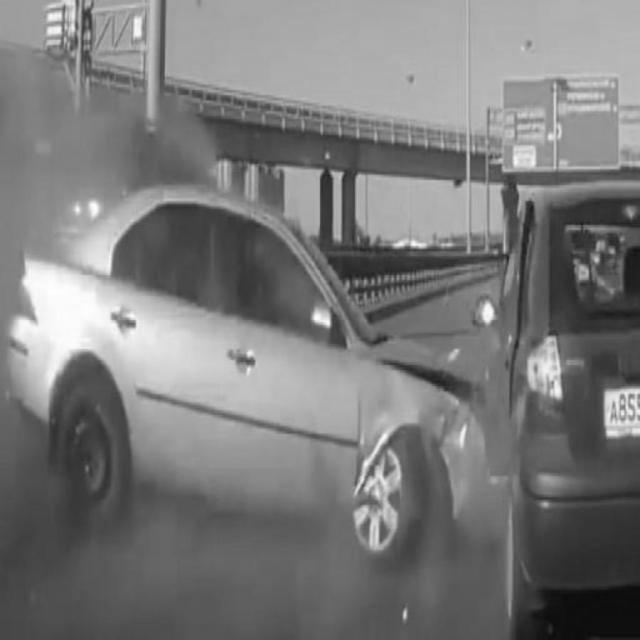accident: (23, 185, 640, 636)
